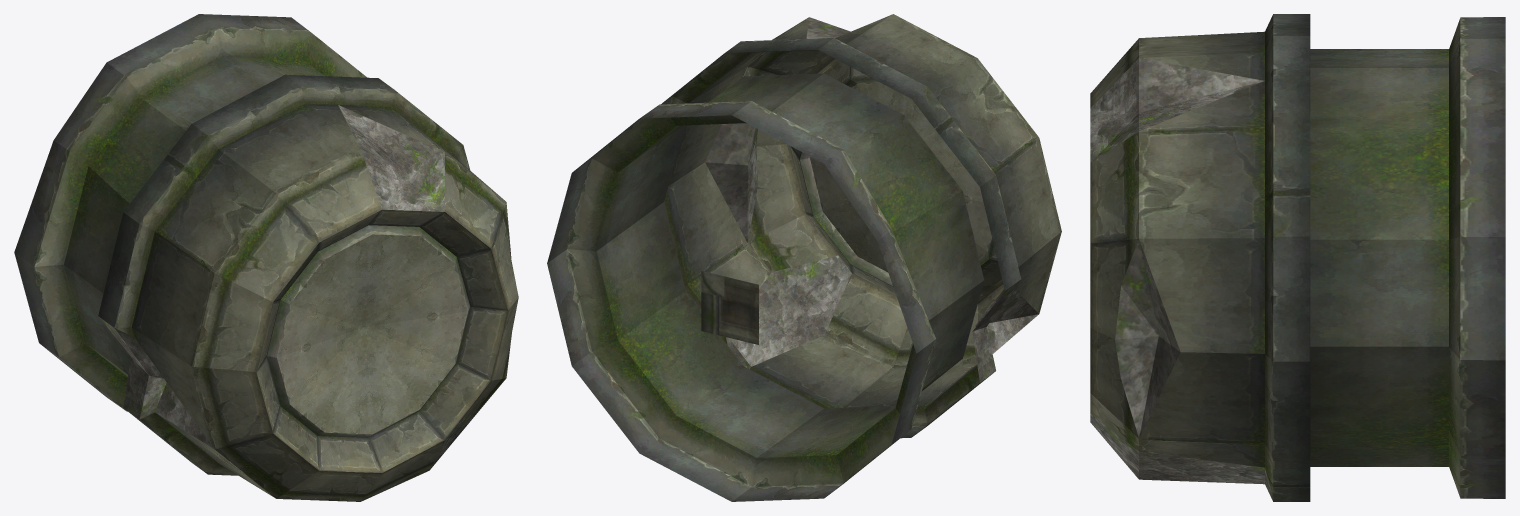
The model's file is jingling_02_building_02f.obj.
3 renders of one model, left to right at view 1: azimuth 30°, elevation 25°; view 2: azimuth 150°, elevation 25°; view 3: azimuth 270°, elevation 25°, orthographic. The views are drawn at different scales.
Visible parts, largest first — view 1: jingling_02_building_02f; view 2: jingling_02_building_02f; view 3: jingling_02_building_02f.
Part boxes in pixels (left/top/right/bottom): jingling_02_building_02f: left=14, top=14, right=518, bottom=501; jingling_02_building_02f: left=547, top=14, right=1061, bottom=501; jingling_02_building_02f: left=1090, top=14, right=1505, bottom=501.
Bounding box in the file's own units: 93.18 × 93.18 × 79.04.
Materials: 3 (3 with a texture image).
